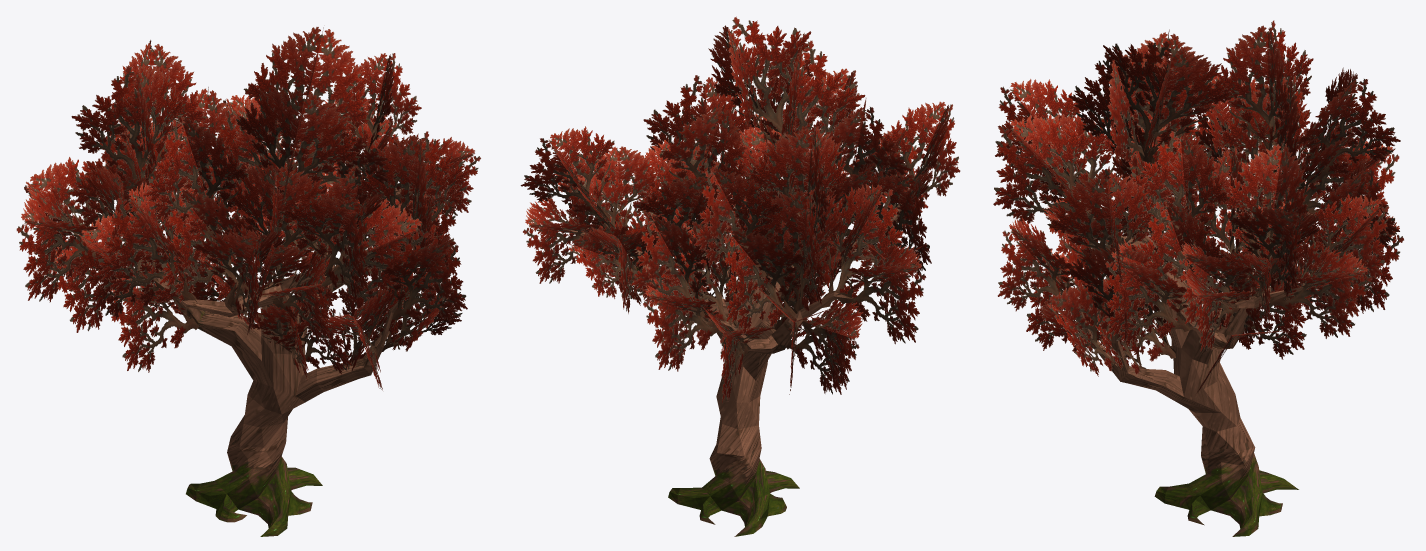
Rendered from plant_lobbynew02_zhiwu_shu07.FBX.
3 renders of one model, left to right at view 1: azimuth 30°, elevation 25°; view 2: azimuth 150°, elevation 25°; view 3: azimuth 270°, elevation 25°, orthographic. The views are drawn at different scales.
Parts seen in each view (by area): view 1: plant_lobbynew02_zhiwu_shu07; view 2: plant_lobbynew02_zhiwu_shu07; view 3: plant_lobbynew02_zhiwu_shu07.
Boxes of the visible parts, x1,y1,x2,y2 form: plant_lobbynew02_zhiwu_shu07: (16,27,480,536); plant_lobbynew02_zhiwu_shu07: (520,16,960,536); plant_lobbynew02_zhiwu_shu07: (993,20,1403,536).
Size of the model in its own units: 1156 by 1005 by 1281.
